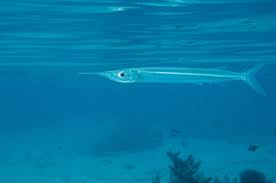sayori: (77, 64, 263, 97)
